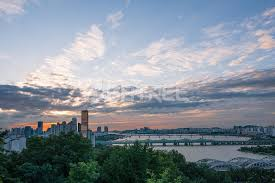forest: (16, 138, 189, 182)
sky: (2, 1, 269, 124)
